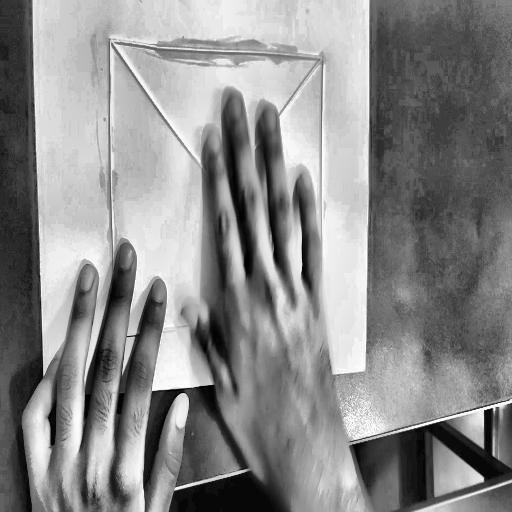bottom_left: (44, 389, 48, 397)
bottom_right: (363, 366, 367, 372)
envelop: (103, 30, 335, 353)
